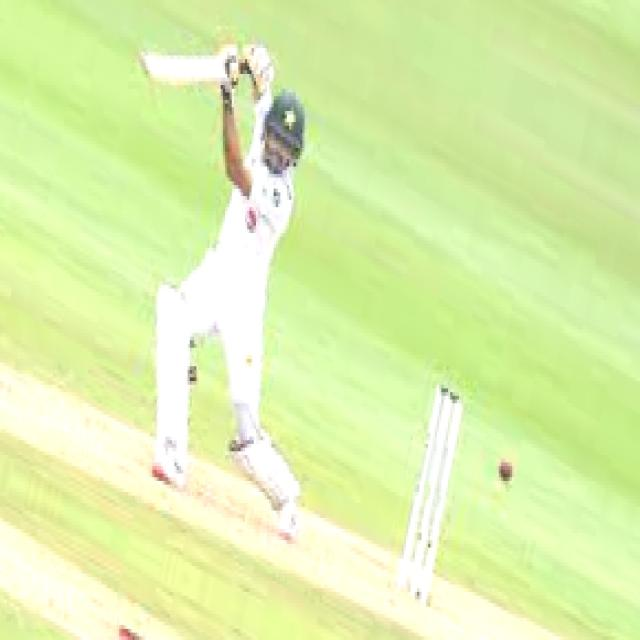toe: (135, 44, 179, 100)
